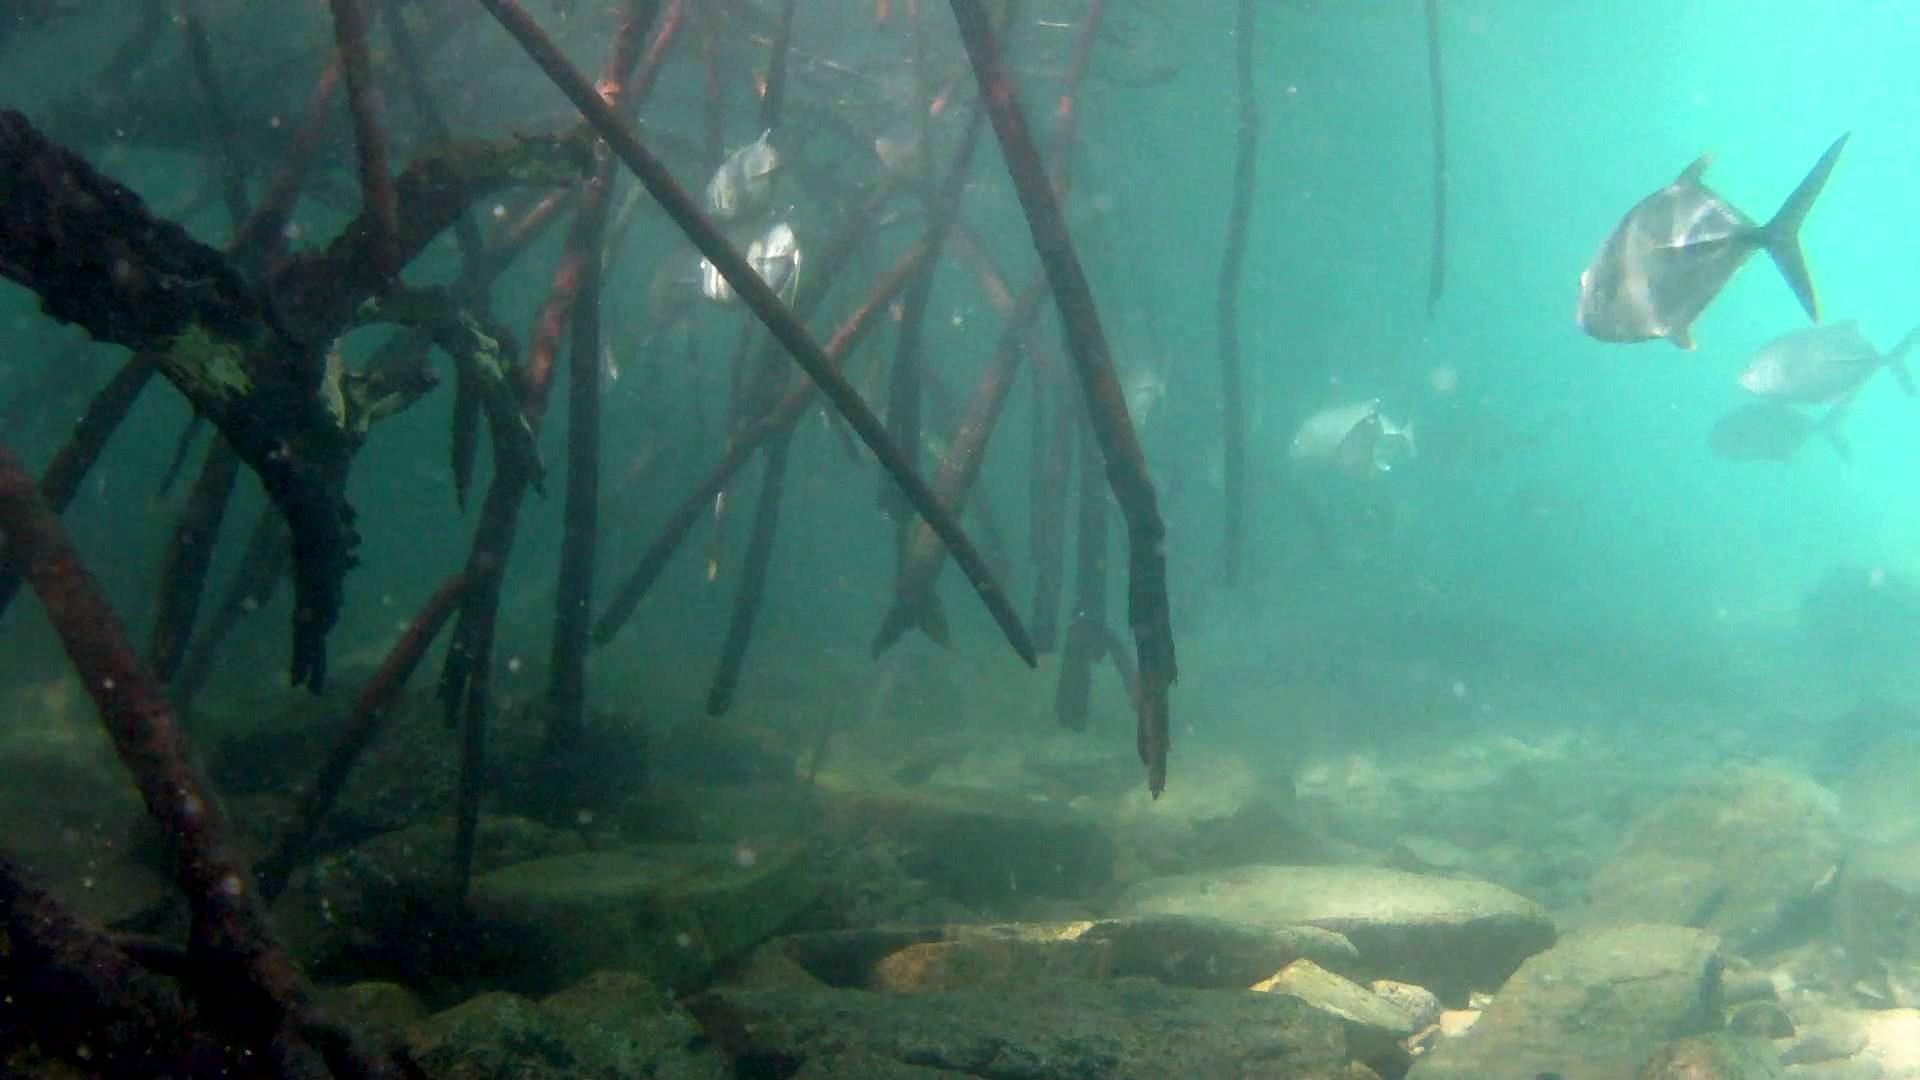caranx: (1567, 124, 1852, 359)
